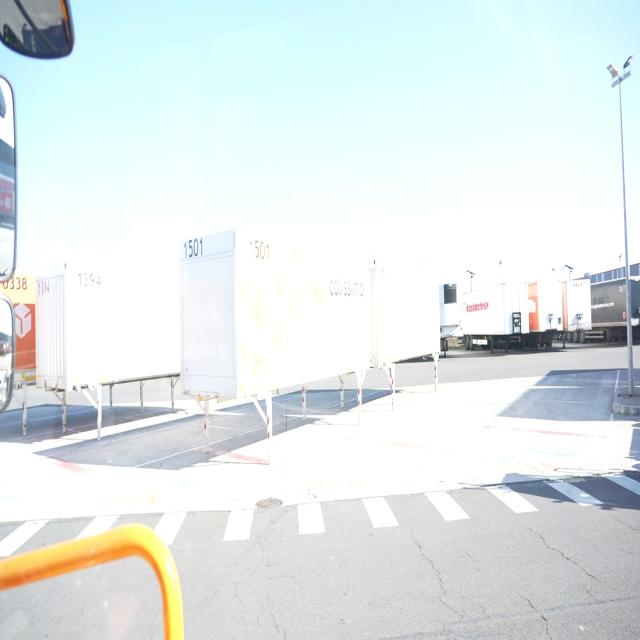Code: (245, 235, 270, 263), (182, 235, 206, 263)
